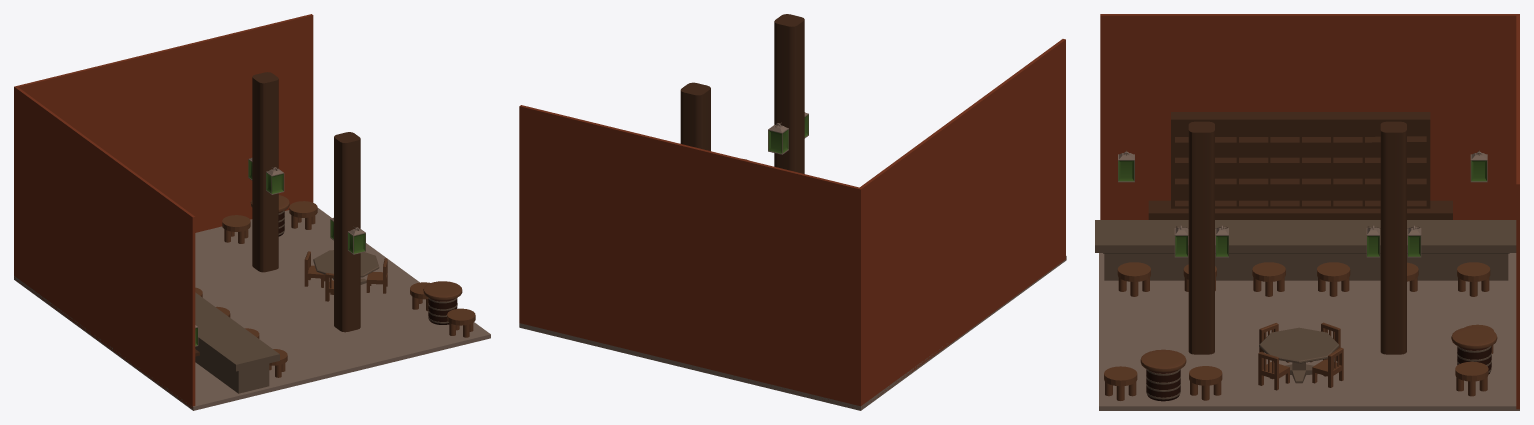
Rendered from Medieval_Tavern2.0.fbx.
The picture shows the model from 3 angles, left to right: view 1: azimuth 30°, elevation 25°; view 2: azimuth 150°, elevation 25°; view 3: azimuth 270°, elevation 25°; orthographic projection. The views are drawn at different scales.
Visible parts, largest first — view 1: Wall1, Wall2, Floor, Pillars:Pillar1, Pillars:Pillar2, Bar_Counter1:Bar_Counter, Tall_Table2:Tall_Table, Lantern_Body (×2), Tavern_Big_Table:Table, Stool10, Stool7, Stool8; view 2: Wall2, Wall1, Pillars:Pillar2, Floor, Pillars:Pillar1, Lantern_Body; view 3: Wall1, Floor, Liquor_Shelf1:Liquor_Shelf, Bar_Counter1:Bar_Counter, Pillars:Pillar2, Pillars:Pillar1, Tavern_Big_Table:Table, Lantern_Body (×5), Tall_Table2:Tall_Table, Wall2, Tall_Table, Stool9 (+9 smaller).
Part boxes in pixels (<box>): Wall1: <box>14,86,195,408</box>; Wall2: <box>14,14,313,278</box>; Floor: <box>14,208,490,410</box>; Pillars:Pillar1: <box>252,72,278,272</box>; Pillars:Pillar2: <box>334,132,360,332</box>; Bar_Counter1:Bar_Counter: <box>195,292,279,393</box>; Tall_Table2:Tall_Table: <box>423,281,462,324</box>; Lantern_Body (×2): <box>266,168,365,254</box>; Tavern_Big_Table:Table: <box>313,250,379,284</box>; Stool10: <box>447,308,475,337</box>; Stool7: <box>222,215,250,243</box>; Stool8: <box>289,201,317,229</box>; Wall2: <box>519,105,862,407</box>; Wall1: <box>857,39,1065,406</box>; Pillars:Pillar2: <box>774,14,804,173</box>; Floor: <box>519,256,1066,410</box>; Pillars:Pillar1: <box>680,82,710,150</box>; Lantern_Body: <box>768,124,788,154</box>; Wall1: <box>1100,14,1519,219</box>; Floor: <box>1099,253,1519,410</box>; Liquor_Shelf1:Liquor_Shelf: <box>1148,112,1452,219</box>; Bar_Counter1:Bar_Counter: <box>1095,220,1516,280</box>; Pillars:Pillar2: <box>1188,121,1214,354</box>; Pillars:Pillar1: <box>1380,121,1406,354</box>; Tavern_Big_Table:Table: <box>1259,327,1339,383</box>; Lantern_Body (×5): <box>1174,153,1487,257</box>; Tall_Table2:Tall_Table: <box>1140,349,1186,401</box>; Wall2: <box>1516,15,1519,409</box>; Tall_Table: <box>1451,326,1497,373</box>; Stool9: <box>1189,366,1222,400</box>.
Size of the model in its own units: 19.33 by 11.98 by 20.37.
1 material, 1 textured.
